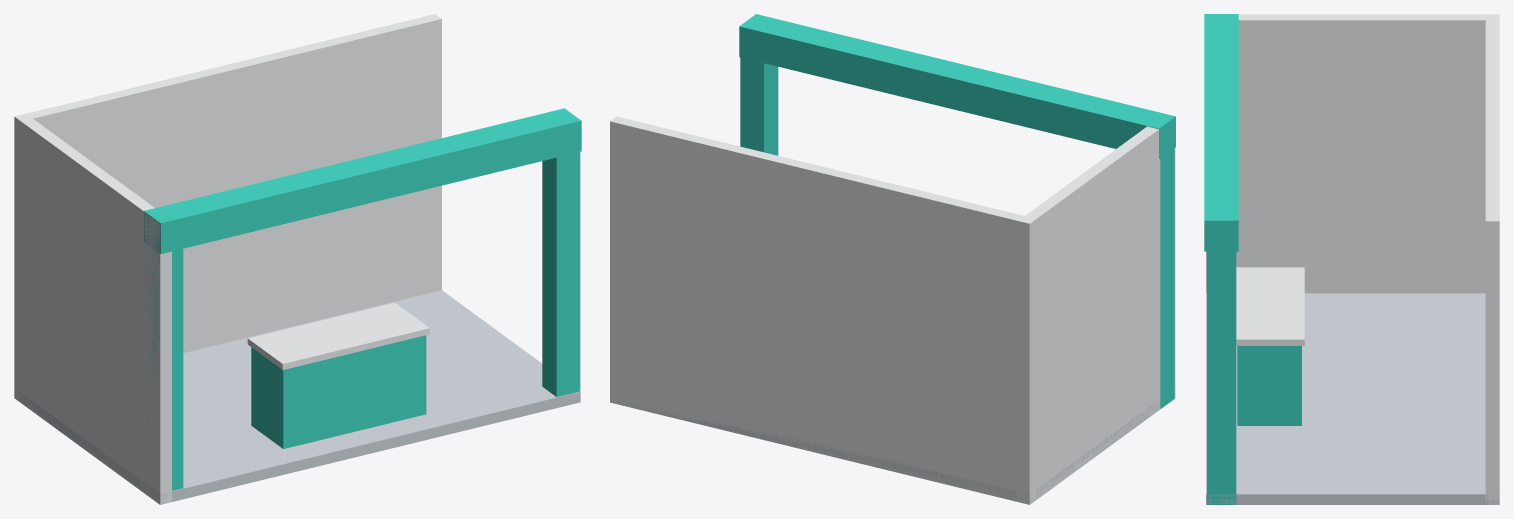
3 views of the same model, side by side, from view 1: azimuth 30°, elevation 25°; view 2: azimuth 150°, elevation 25°; view 3: azimuth 270°, elevation 25° (orthographic).
Visible parts, largest first — view 1: Exhibition Booth Concept; view 2: Exhibition Booth Concept; view 3: Exhibition Booth Concept.
Boxes of the visible parts, <box> form: Exhibition Booth Concept: <box>14,14,581,504</box>; Exhibition Booth Concept: <box>610,14,1175,504</box>; Exhibition Booth Concept: <box>1204,14,1499,504</box>.
Size of the model in its own units: 5 by 3.2 by 3.01.
